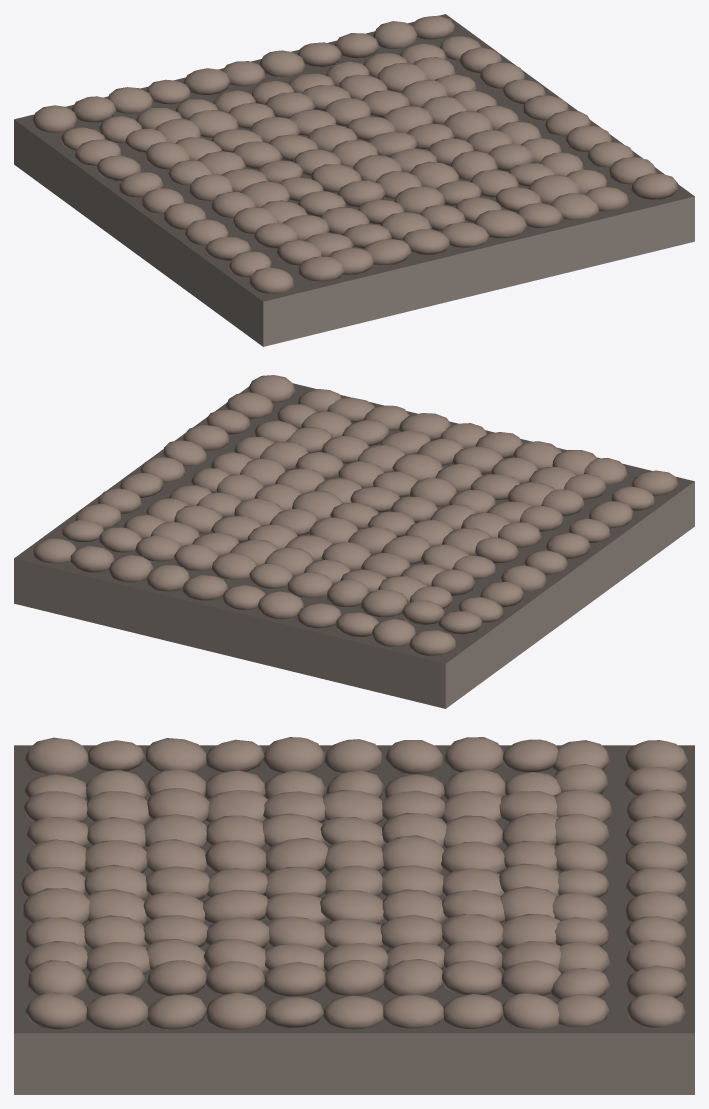
File: 27-cobble-end.glb
3 views of the same model, one above another, from view 1: azimuth 30°, elevation 25°; view 2: azimuth 150°, elevation 25°; view 3: azimuth 270°, elevation 25° (orthographic). The views are drawn at different scales.
Visible parts, largest first — view 1: Slab, StoneProto.067, StoneProto.111, StoneProto.011, StoneProto.055, StoneProto.049, StoneProto.110, StoneProto.077, StoneProto.097, StoneProto.058, StoneProto.045, StoneProto.001 (+110 smaller); view 2: Slab, StoneProto.032, StoneProto.055, StoneProto.022, StoneProto.011, StoneProto.099, StoneProto.076, StoneProto.111, StoneProto.048, StoneProto.112, StoneProto.110, StoneProto.054 (+110 smaller); view 3: Slab, StoneProto.001, StoneProto.067, StoneProto.112, StoneProto.114, StoneProto.111, StoneProto.106, StoneProto.005, StoneProto.105, StoneProto.051, StoneProto.118, StoneProto.107 (+110 smaller).
Part boxes in pixels (x1,y1,x2,y2): Slab: [14, 14, 694, 346]; StoneProto.067: [474, 209, 527, 238]; StoneProto.111: [631, 173, 677, 199]; StoneProto.011: [32, 105, 77, 132]; StoneProto.055: [183, 68, 230, 94]; StoneProto.049: [310, 164, 362, 192]; StoneProto.110: [373, 21, 417, 48]; StoneProto.077: [259, 50, 305, 76]; StoneProto.097: [377, 63, 427, 92]; StoneProto.058: [393, 186, 444, 213]; StoneProto.045: [402, 229, 449, 254]; StoneProto.001: [249, 267, 293, 293]; Slab: [14, 383, 694, 708]; StoneProto.032: [360, 589, 408, 617]; StoneProto.055: [257, 591, 304, 619]; StoneProto.022: [371, 619, 416, 646]; StoneProto.011: [409, 630, 456, 655]; StoneProto.099: [108, 555, 153, 582]; StoneProto.076: [211, 553, 257, 579]; StoneProto.111: [248, 375, 295, 402]; StoneProto.048: [410, 478, 457, 506]; StoneProto.112: [225, 392, 274, 418]; StoneProto.110: [70, 545, 114, 572]; StoneProto.054: [287, 572, 333, 597]; Slab: [14, 745, 694, 1094]; StoneProto.001: [24, 737, 88, 774]; StoneProto.067: [22, 888, 89, 923]; StoneProto.112: [86, 993, 148, 1029]; StoneProto.114: [205, 992, 266, 1029]; StoneProto.111: [25, 992, 86, 1029]; StoneProto.106: [383, 959, 443, 995]; StoneProto.005: [262, 737, 325, 772]; StoneProto.105: [324, 960, 385, 995]; StoneProto.051: [382, 835, 444, 872]; StoneProto.118: [443, 994, 503, 1028]; StoneProto.107: [442, 960, 502, 995].
Bounding box in the file's own units: 3 × 0.4001 × 3.
